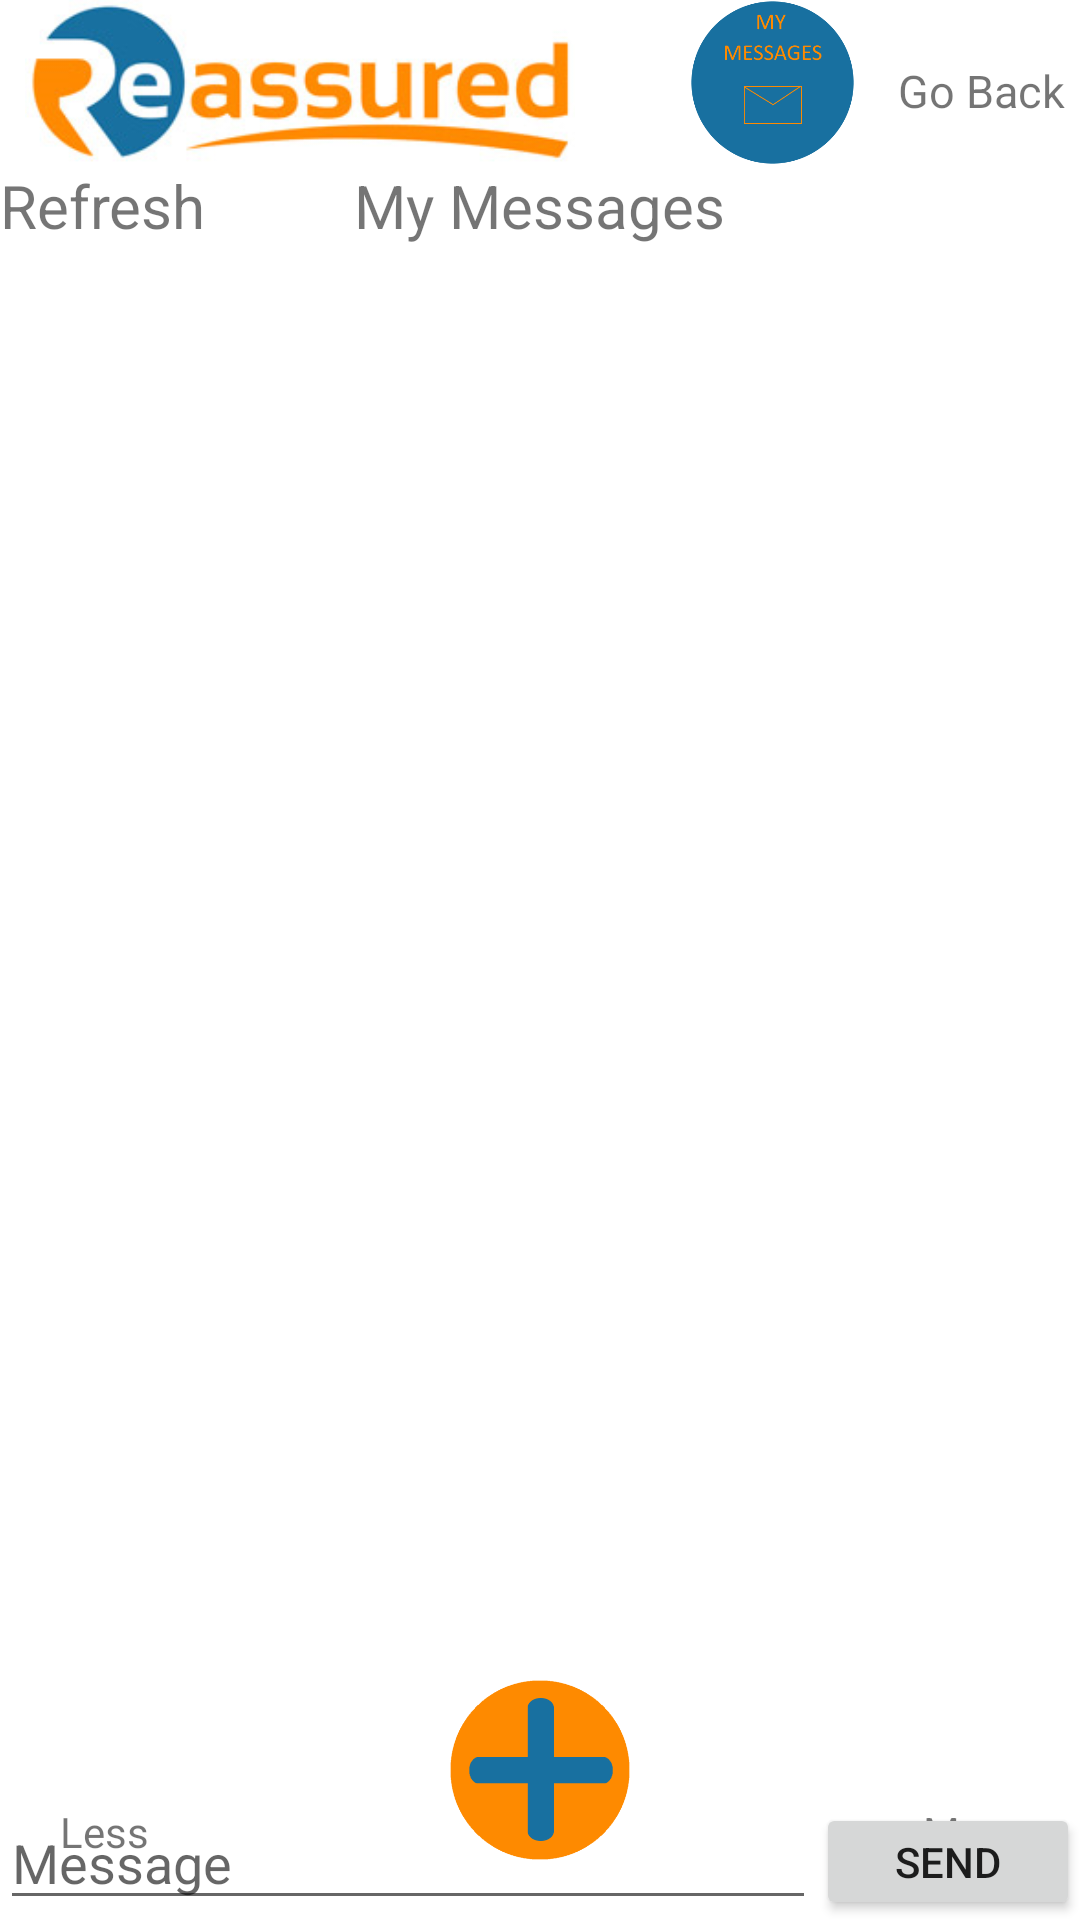

Screen size 1080px x 1920px. Icon name, then its box in pixels as (x1, y1, x2, y2):
plus: (450, 1680, 630, 1860)
